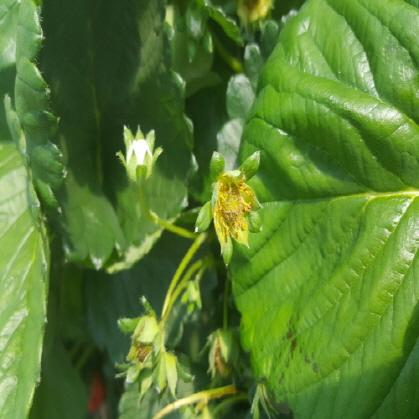Blossom Blight: (209, 170, 256, 245)
